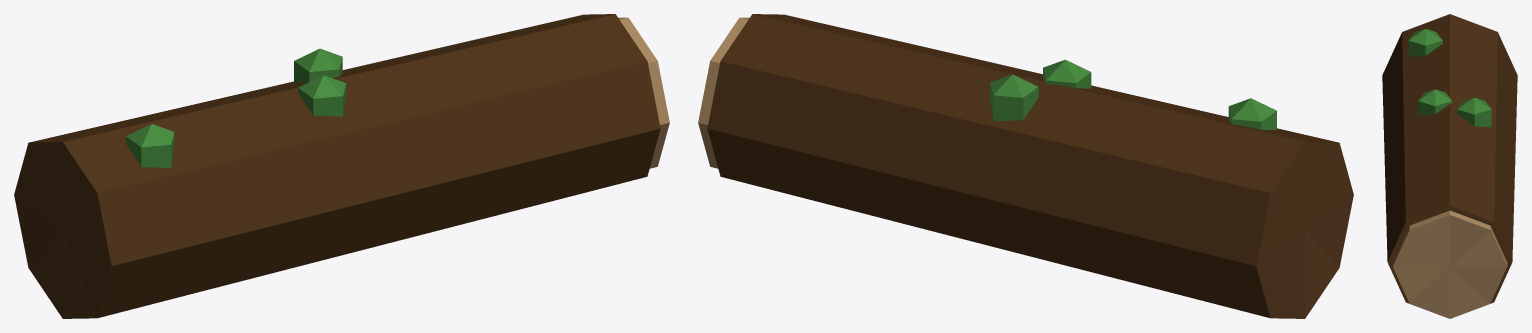
The model's file is p_log.glb.
3 views of the same model, side by side, from view 1: azimuth 30°, elevation 25°; view 2: azimuth 150°, elevation 25°; view 3: azimuth 270°, elevation 25° (orthographic). The views are drawn at different scales.
Visible parts, largest first — view 1: p_log; view 2: p_log; view 3: p_log.
Boxes of the visible parts, <box> form: p_log: <box>14,14,669,318</box>; p_log: <box>698,14,1353,318</box>; p_log: <box>1382,14,1517,318</box>.
Bounding box in the file's own units: 0.87 × 0.28 × 0.26.
